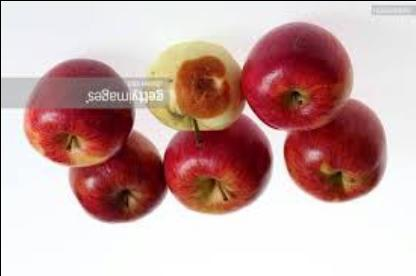defect: (171, 49, 231, 121)
